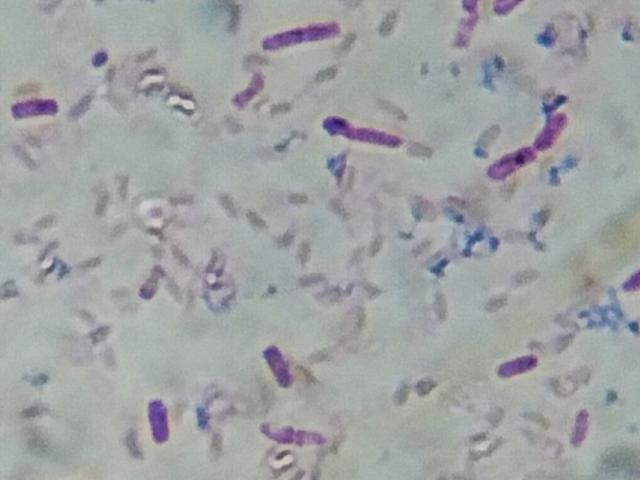E. coli: (264, 14, 351, 55), (332, 110, 401, 152), (529, 97, 571, 151), (486, 139, 536, 183), (224, 65, 273, 109), (496, 348, 544, 387), (264, 342, 296, 396), (14, 92, 56, 125), (148, 394, 171, 447), (454, 0, 479, 46), (570, 404, 590, 448), (618, 254, 640, 294), (493, 0, 524, 21)
